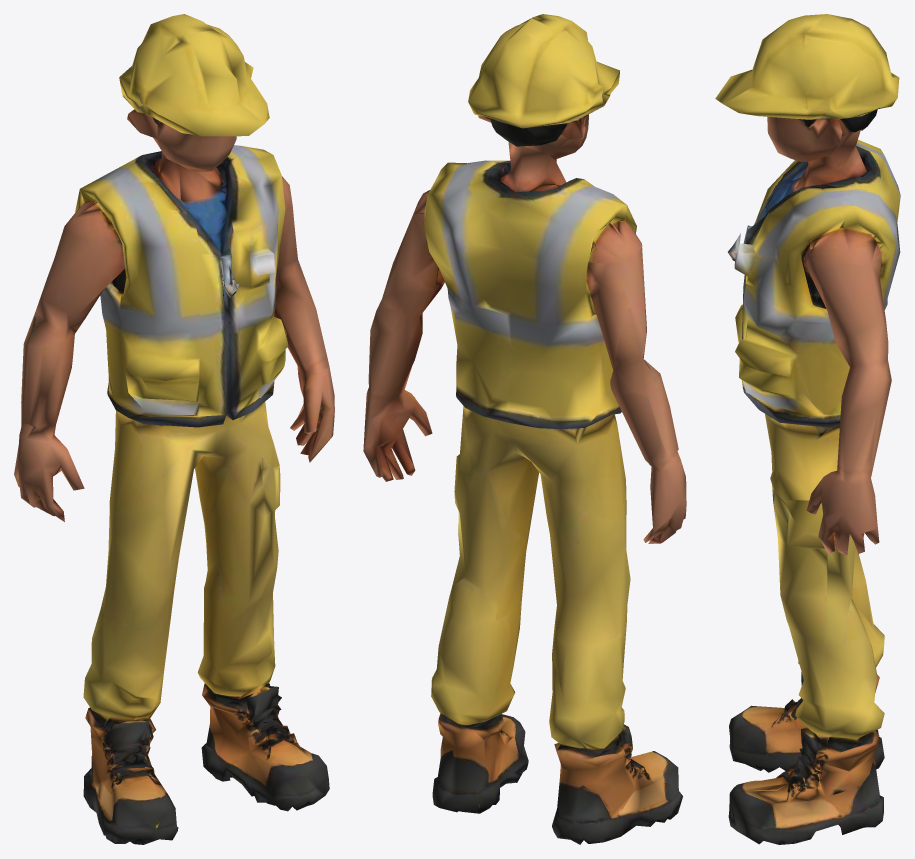
File: person_worker.glb
3 views of the same model, side by side, from view 1: azimuth 30°, elevation 25°; view 2: azimuth 150°, elevation 25°; view 3: azimuth 270°, elevation 25° (orthographic).
Visible parts, largest first — view 1: tripo_node_8a1df6ed-7c90-494d-8c25-fdf7854f0449; view 2: tripo_node_8a1df6ed-7c90-494d-8c25-fdf7854f0449; view 3: tripo_node_8a1df6ed-7c90-494d-8c25-fdf7854f0449.
Part boxes in pixels (x1,y1,x2,y2): tripo_node_8a1df6ed-7c90-494d-8c25-fdf7854f0449: [14, 14, 334, 844]; tripo_node_8a1df6ed-7c90-494d-8c25-fdf7854f0449: [363, 14, 686, 844]; tripo_node_8a1df6ed-7c90-494d-8c25-fdf7854f0449: [715, 14, 900, 844].
Size of the model in its own units: 0.4101 by 0.9797 by 0.2119.
1 material, 1 textured.
